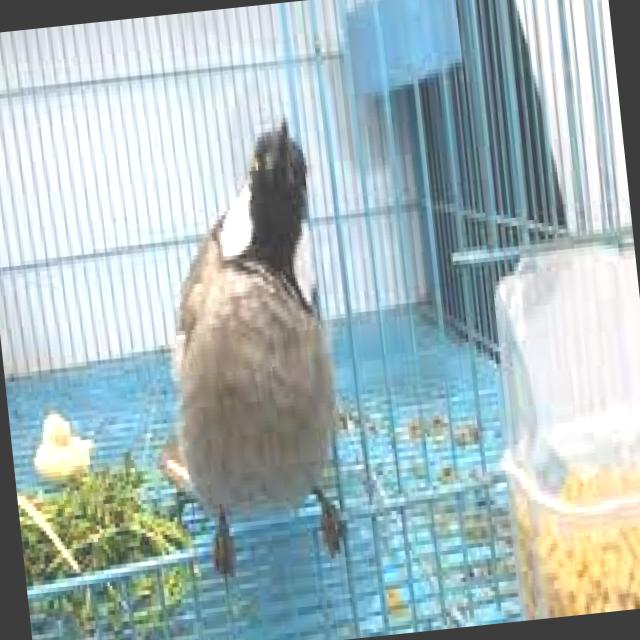bird: (122, 105, 366, 583)
